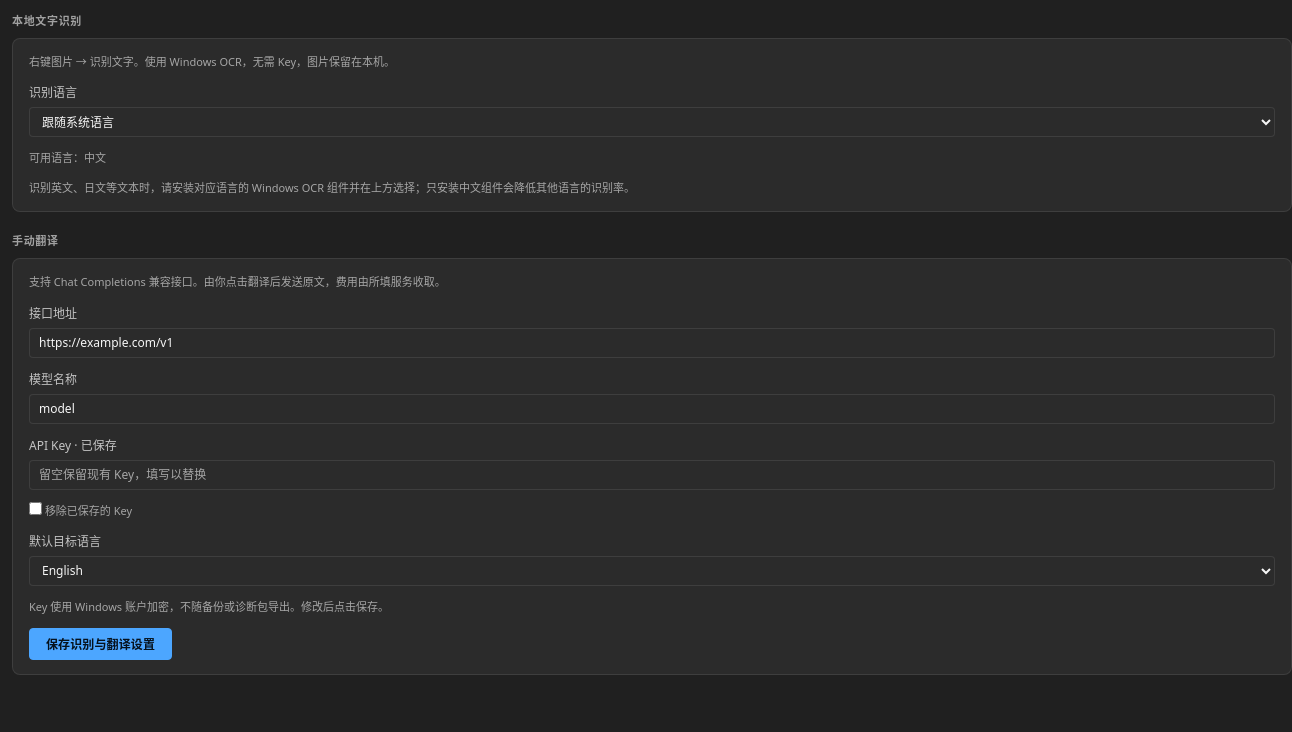
Scenario: text tool settings › saves only explicitly and uses an empty key to retain the protected key
Expected: the field showing "model" is shown, [29,394,1275,424]
Replace the text in the field labelled "接口地址" with "https://example.com/custom/v1" at (652, 343), box [29,328,1275,358]
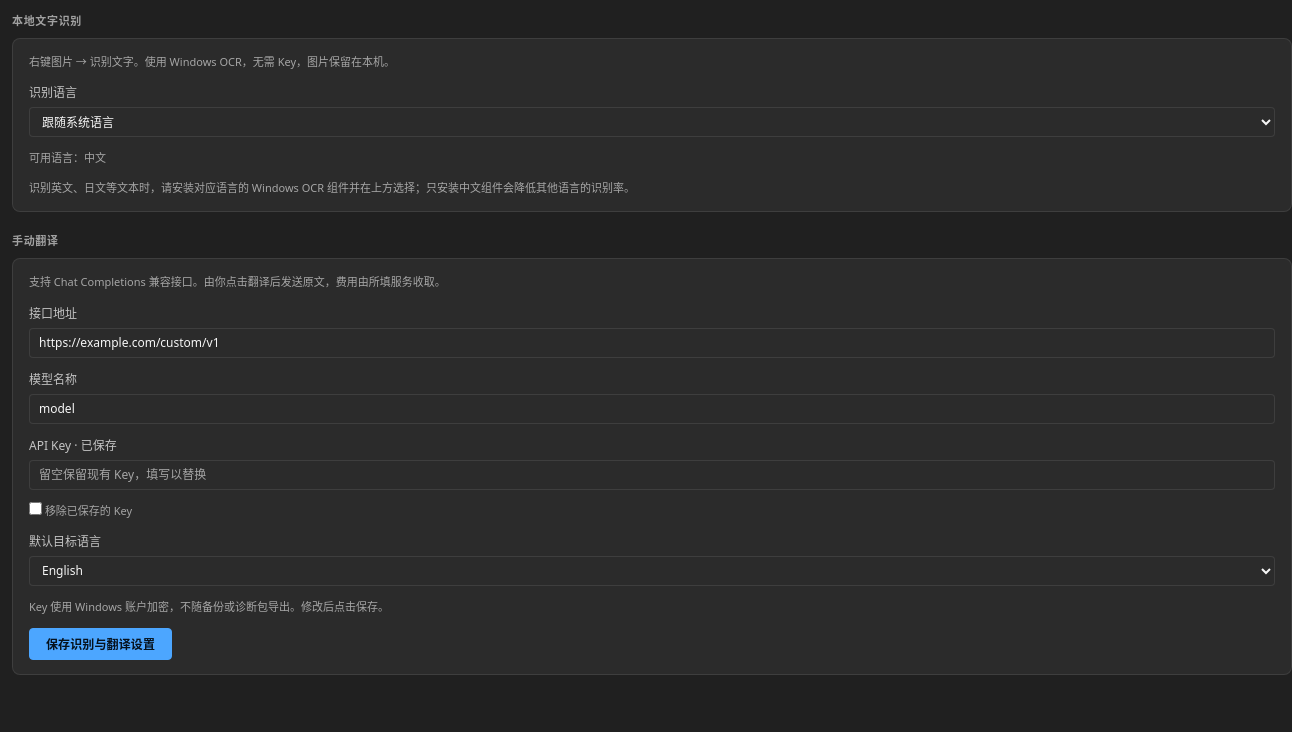
Click the button "保存识别与翻译设置" at (101, 644), box [29,628,172,660]
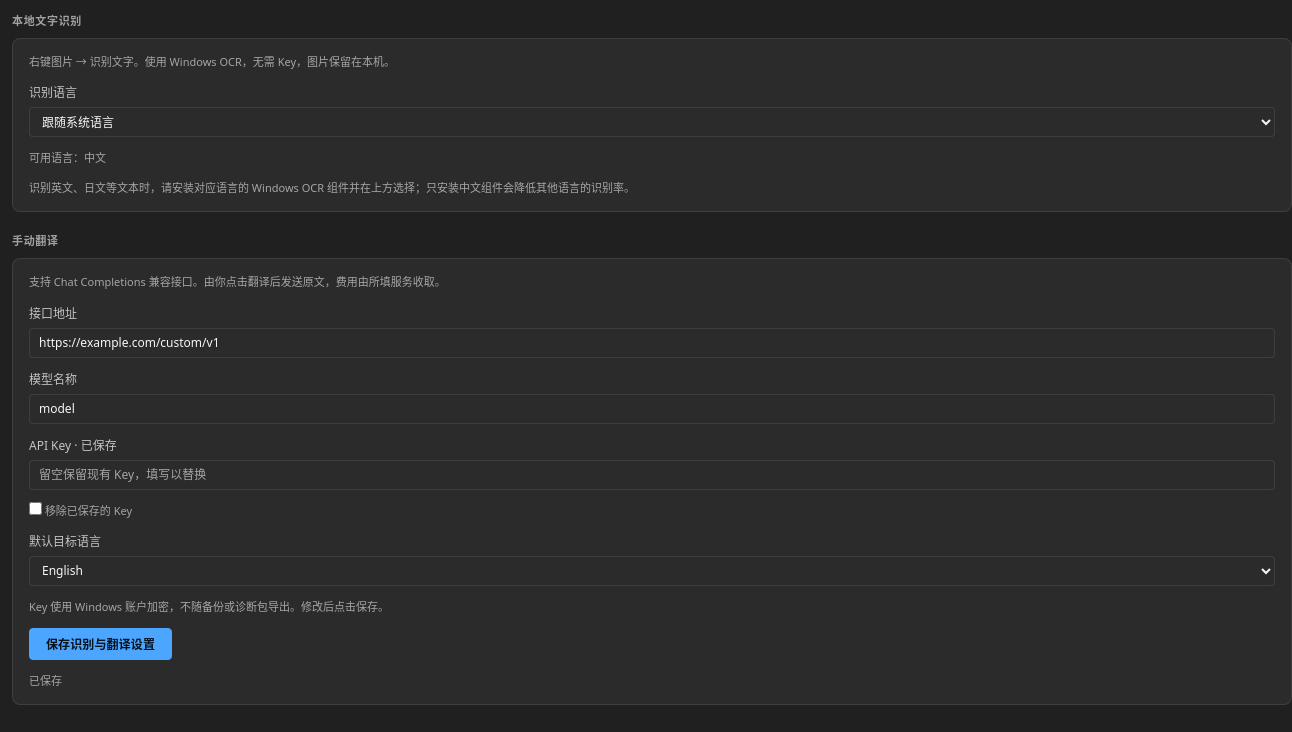
Expected: the text "已保存" is shown, [29,673,62,688]
